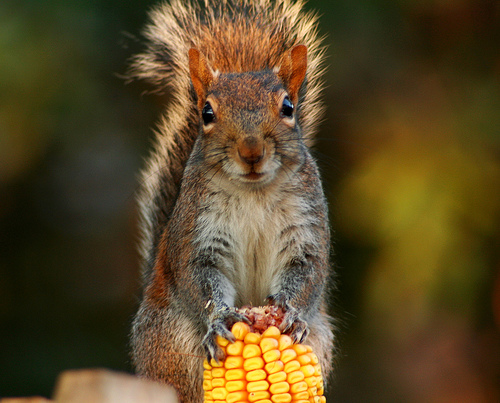corn: (200, 303, 325, 401)
